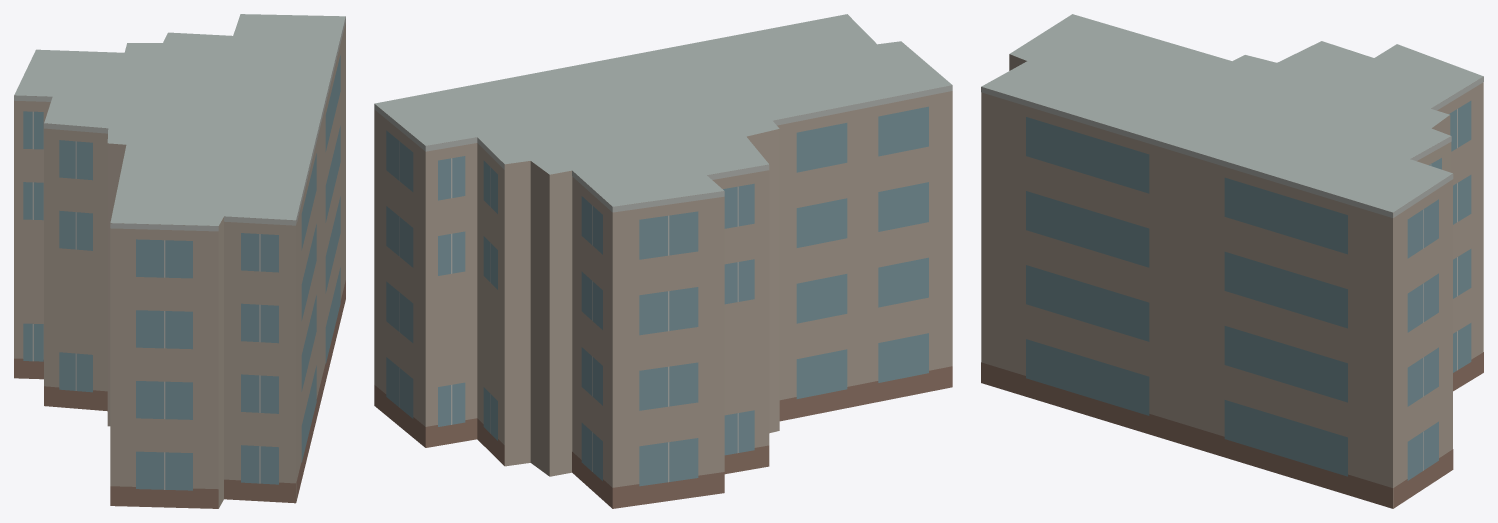
File: survey-upis-32651373.glb
3 views of the same model, side by side, from view 1: azimuth 30°, elevation 25°; view 2: azimuth 150°, elevation 25°; view 3: azimuth 270°, elevation 25° (orthographic). The views are drawn at different scales.
Parts seen in each view (by area): view 1: survey-upis-32651373.tmp; view 2: survey-upis-32651373.tmp; view 3: survey-upis-32651373.tmp.
Part boxes in pixels (<box>): survey-upis-32651373.tmp: <box>14,14,345,508</box>; survey-upis-32651373.tmp: <box>374,14,952,508</box>; survey-upis-32651373.tmp: <box>981,14,1483,508</box>.
Bounding box in the file's own units: 18.41 × 12.8 × 19.69.
